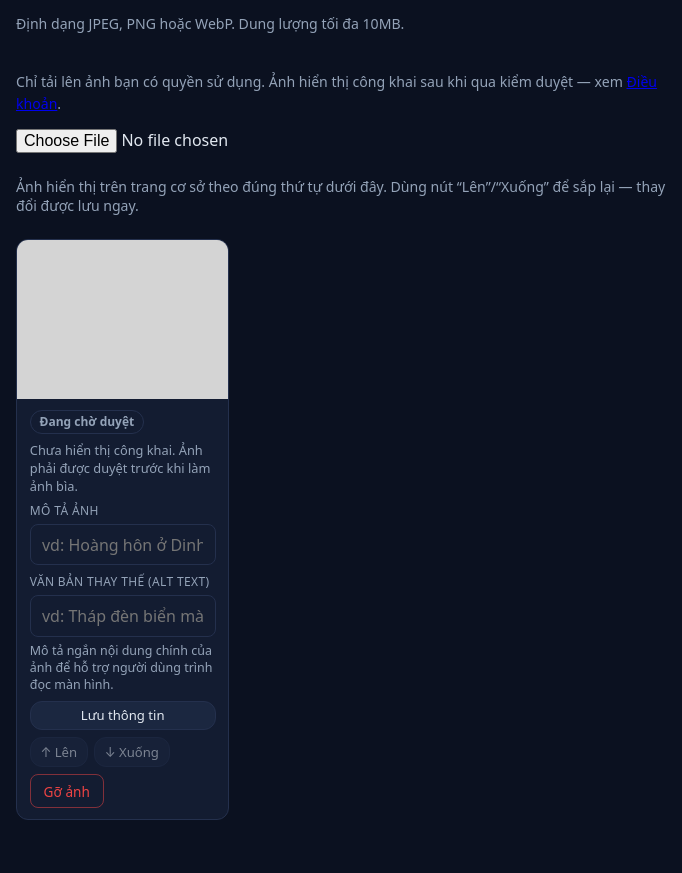
it: PhotosView — sửa mô tả ảnh (caption/alt_text) › API trả 403 -> thông điệp về quyền, hiện NGAY dưới form
This screenshot has width=682, height=873.
(page scrolled)
Expected: the field labelled "Mô tả ảnh" is shown, [30,524,216,565]
Step 1. Click the button "Lưu thông tin" → (123, 715), box [30,701,216,730]
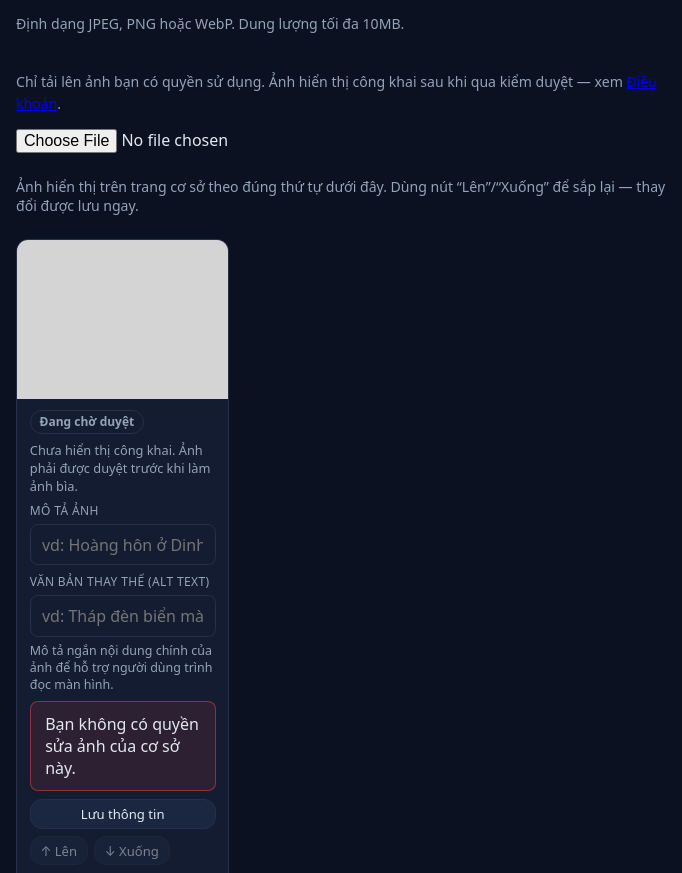
Expected: the message reads "Bạn không có quyền sửa ảnh của cơ sở này.", [45,713,199,779]
